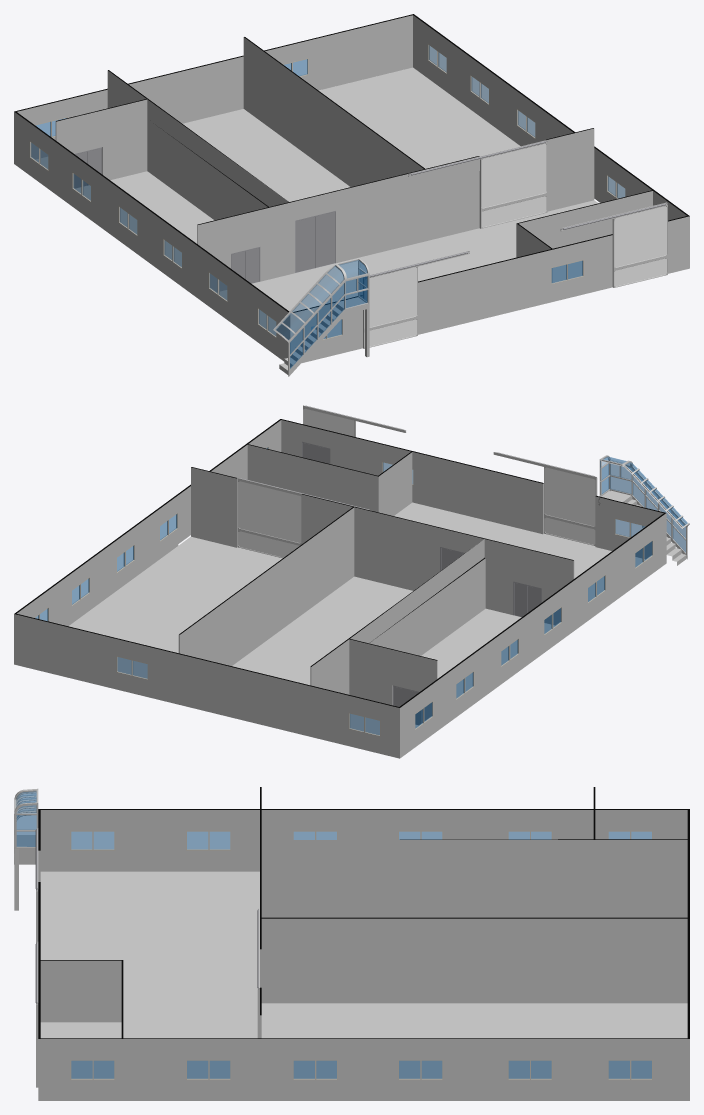
3 renders of one model, top to bottom at view 1: azimuth 30°, elevation 25°; view 2: azimuth 150°, elevation 25°; view 3: azimuth 270°, elevation 25°, orthographic. The views are drawn at different scales.
Parts seen in each view (by area): view 1: V7동_1F_벽, V7동_1F_바닥, V7동_1F_장비반입구, V7동_외부 계단, V7동_1F_창문, V7동_1F_방화문; view 2: V7동_1F_벽, V7동_1F_바닥, V7동_1F_장비반입구, V7동_1F_창문, V7동_외부 계단, V7동_1F_방화문; view 3: V7동_1F_벽, V7동_1F_바닥, V7동_1F_창문, V7동_외부 계단, V7동_1F_장비반입구.
Part boxes in pixels (<box>): V7동_1F_벽: <box>14,14,689,363</box>; V7동_1F_바닥: <box>36,67,597,338</box>; V7동_1F_장비반입구: <box>363,140,667,348</box>; V7동_외부 계단: <box>273,258,369,376</box>; V7동_1F_창문: <box>29,43,668,340</box>; V7동_1F_방화문: <box>74,147,335,283</box>; V7동_1F_벽: <box>14,419,666,758</box>; V7동_1F_바닥: <box>69,502,645,734</box>; V7동_1F_장비반입구: <box>237,405,597,558</box>; V7동_1F_창문: <box>34,446,653,736</box>; V7동_외부 계단: <box>599,455,689,565</box>; V7동_1F_방화문: <box>302,441,541,725</box>; V7동_1F_벽: <box>38,787,689,1100</box>; V7동_1F_바닥: <box>40,871,687,1078</box>; V7동_1F_창문: <box>70,830,653,1080</box>; V7동_외부 계단: <box>14,788,38,910</box>; V7동_1F_장비반입구: <box>35,828,259,1087</box>.
Size of the model in its own units: 24.94 by 5.24 by 29.67.
